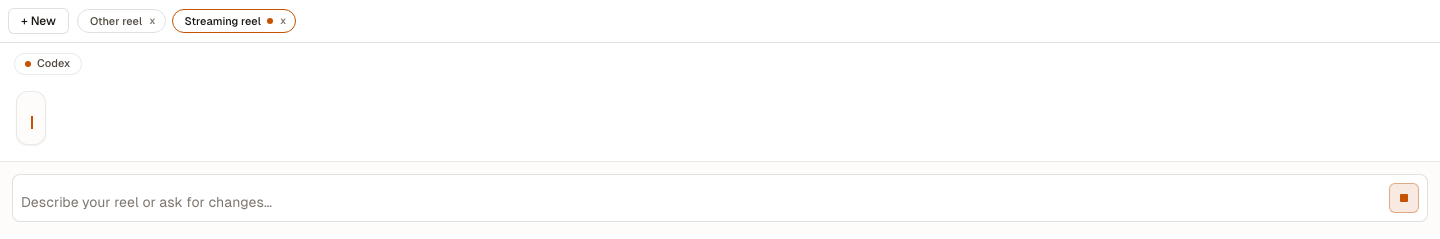
Scenario: SizzleChatPanel › retains a reel thread's complete stream buffer while another thread is selected
Click the button titled "Other reel": (116,21) [90, 10, 142, 32]
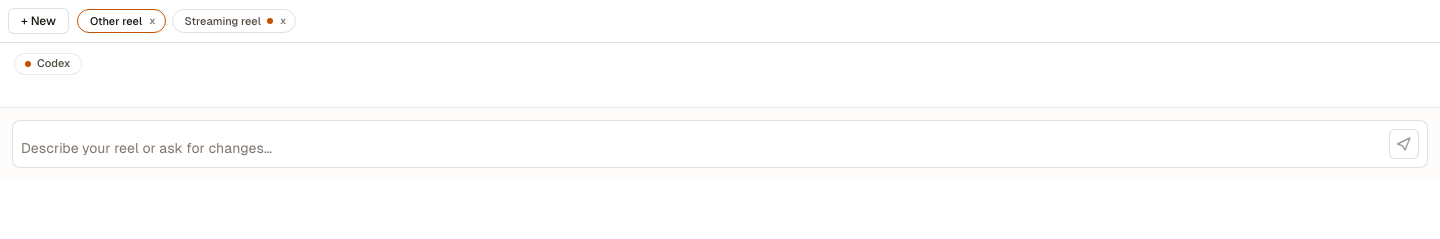
Click the button titled "Streaming reel": (229,21) [185, 10, 273, 32]
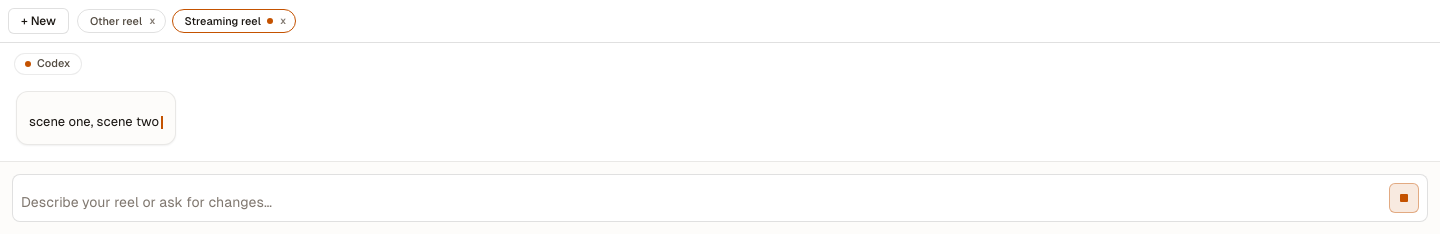
Check: the text "scene one, scene two" is shown, box [29, 112, 163, 132]
